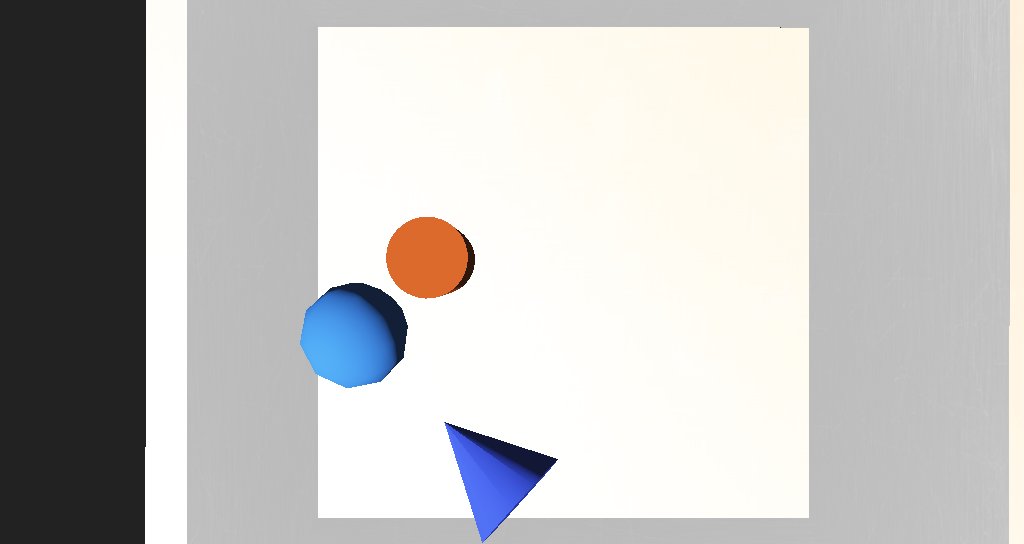cone: (397, 246, 451, 279)
cylinder: (401, 310, 502, 387)
sphere: (354, 274, 414, 317)
